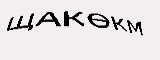З: (101, 8, 115, 32), (71, 12, 84, 35)
М: (56, 15, 73, 37)
С: (84, 9, 100, 32)
Я: (39, 18, 54, 39)
